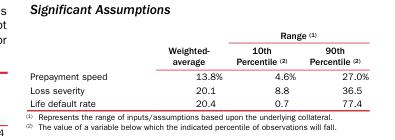table: (29, 29, 367, 108)
table column: (29, 29, 136, 108), (136, 29, 228, 108), (228, 29, 301, 108), (301, 29, 367, 108)
table column header: (29, 29, 367, 68)
table row: (29, 42, 367, 68), (29, 68, 367, 82), (29, 82, 367, 96), (29, 29, 367, 42), (29, 96, 367, 108)
table spanning cell: (136, 29, 228, 68), (228, 29, 367, 42)
